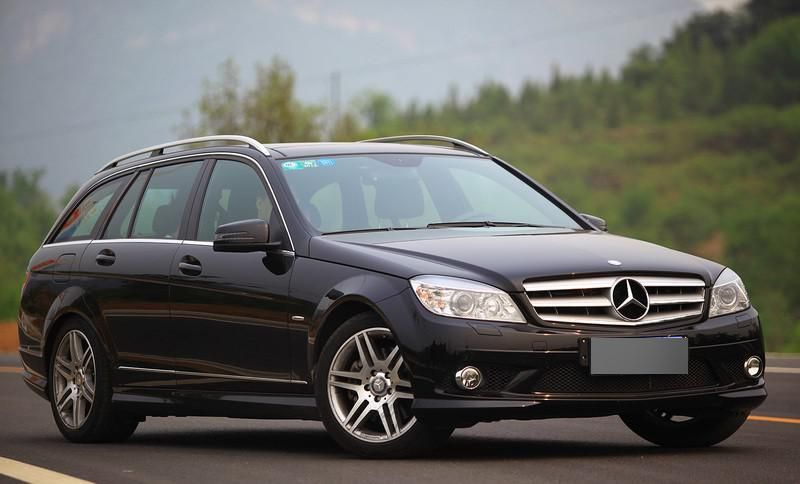Wagon: (16, 132, 771, 461)
